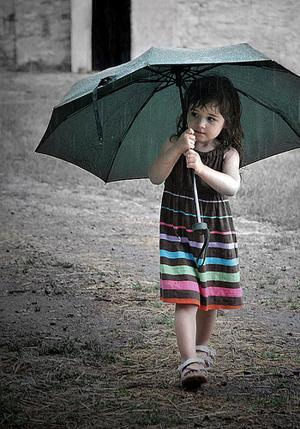person: (149, 73, 243, 383)
